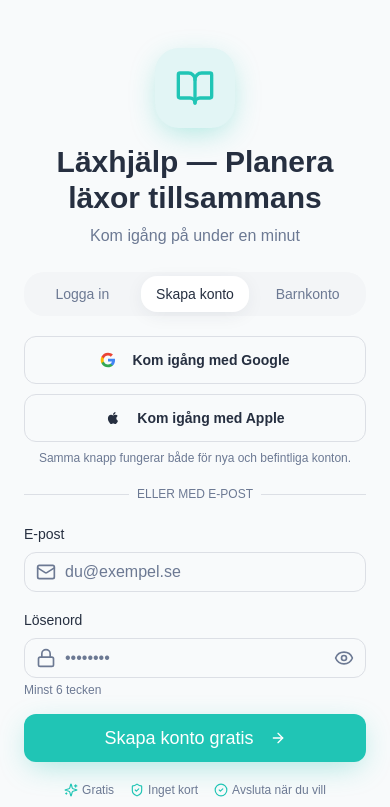
it: AuthPage › opt-in create with email confirmation required shows inbox screen
Click the button "Logga in" at x=82, y=294, box [28, 276, 137, 312]
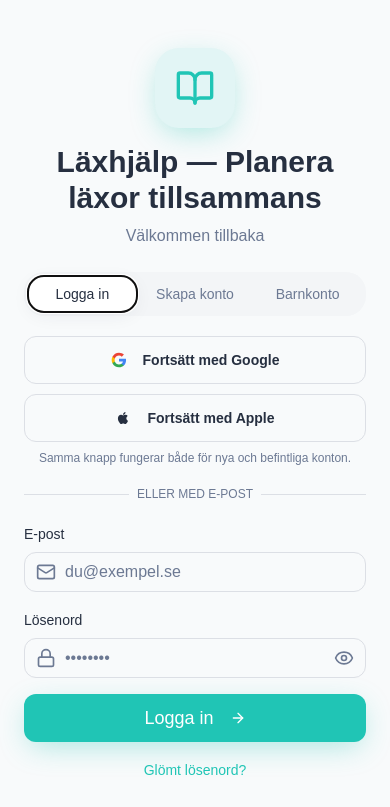
Type "new2@x.se" into the field with placeholder "du@exempel.se" at x=195, y=572, box [24, 552, 366, 592]
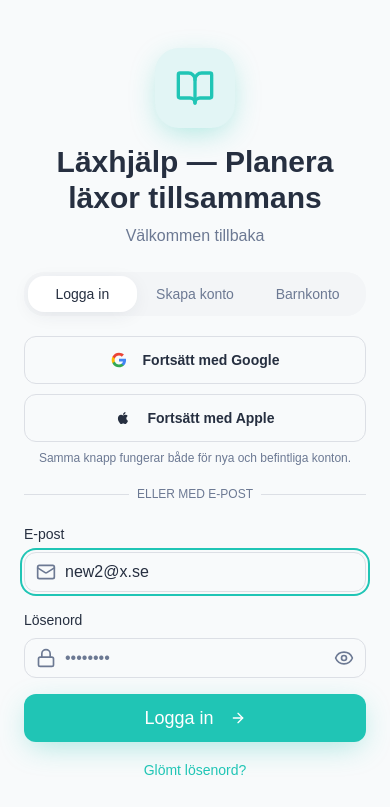
Type "secret123" into the password field with placeholder "••••••••" at x=195, y=658, box [24, 638, 366, 678]
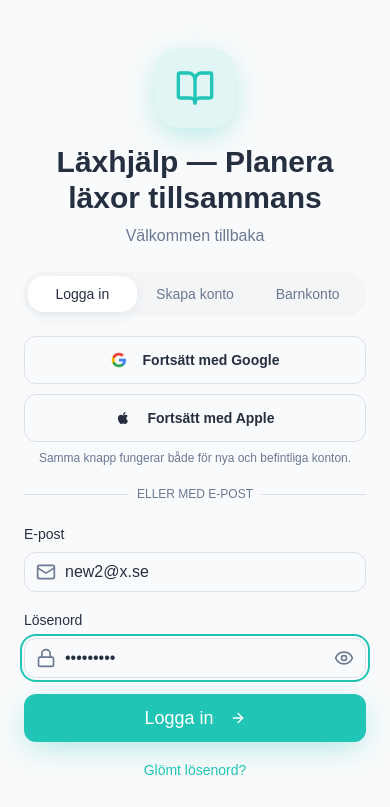
Click the submit button at x=195, y=718, box [24, 694, 366, 742]
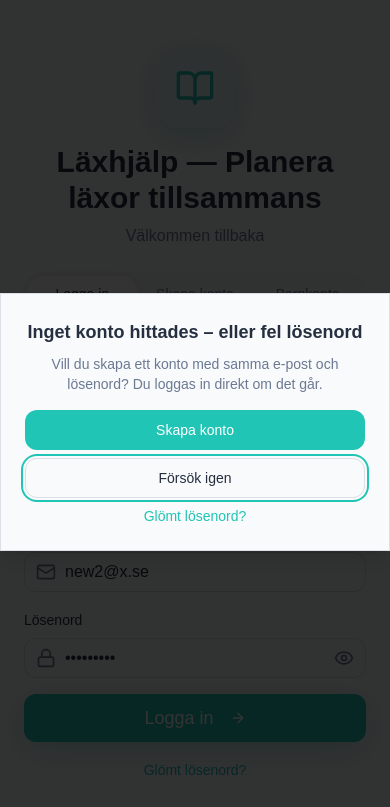
Click the button "Skapa konto" at x=195, y=430, box [25, 410, 365, 450]
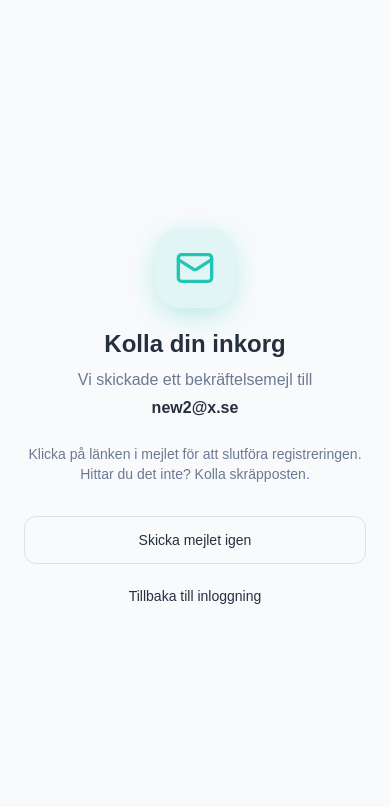
Expected: the heading "Kolla din inkorg" is shown, [104, 330, 286, 357]
